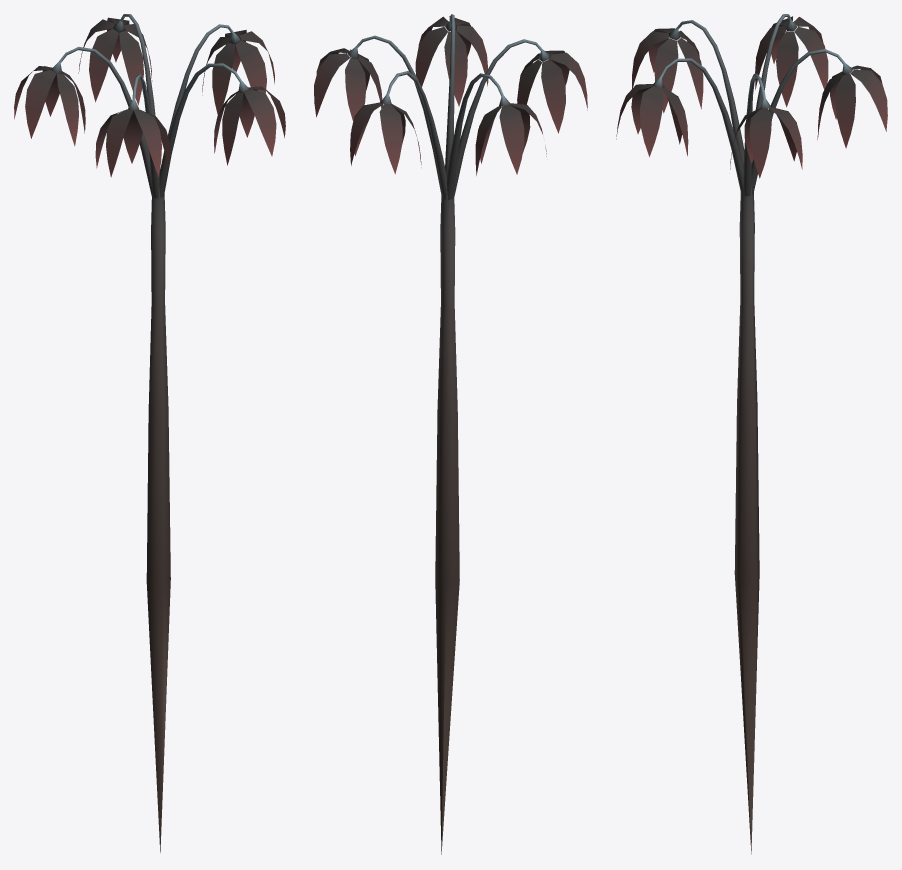
Rendered from plants-flowers-red-bell-flower_v7.fbx.
3 renders of one model, left to right at view 1: azimuth 30°, elevation 25°; view 2: azimuth 150°, elevation 25°; view 3: azimuth 270°, elevation 25°, orthographic.
Visible parts, largest first — view 1: Red Bell Flower_v7; view 2: Red Bell Flower_v7; view 3: Red Bell Flower_v7.
Boxes of the visible parts, x1=… form: Red Bell Flower_v7: x1=14, y1=14, x2=285, y2=852; Red Bell Flower_v7: x1=314, y1=14, x2=587, y2=854; Red Bell Flower_v7: x1=616, y1=14, x2=887, y2=854.
Size of the model in its own units: 0.2145 by 0.7 by 0.2128.
